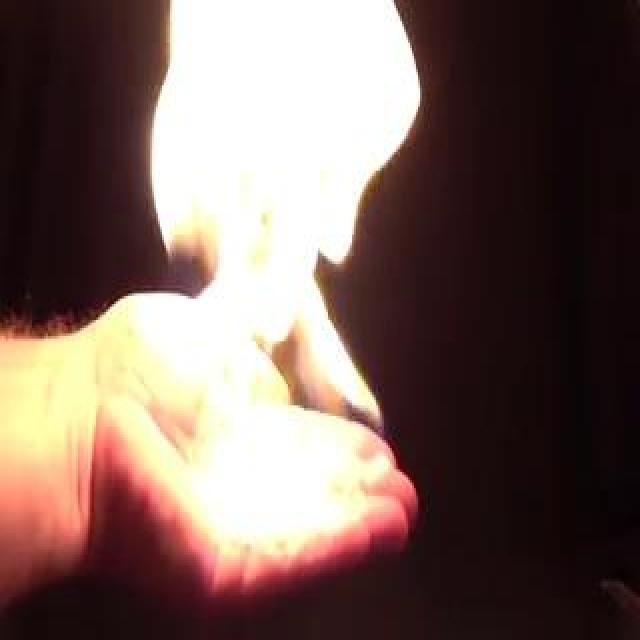Fire: (144, 3, 414, 541)
